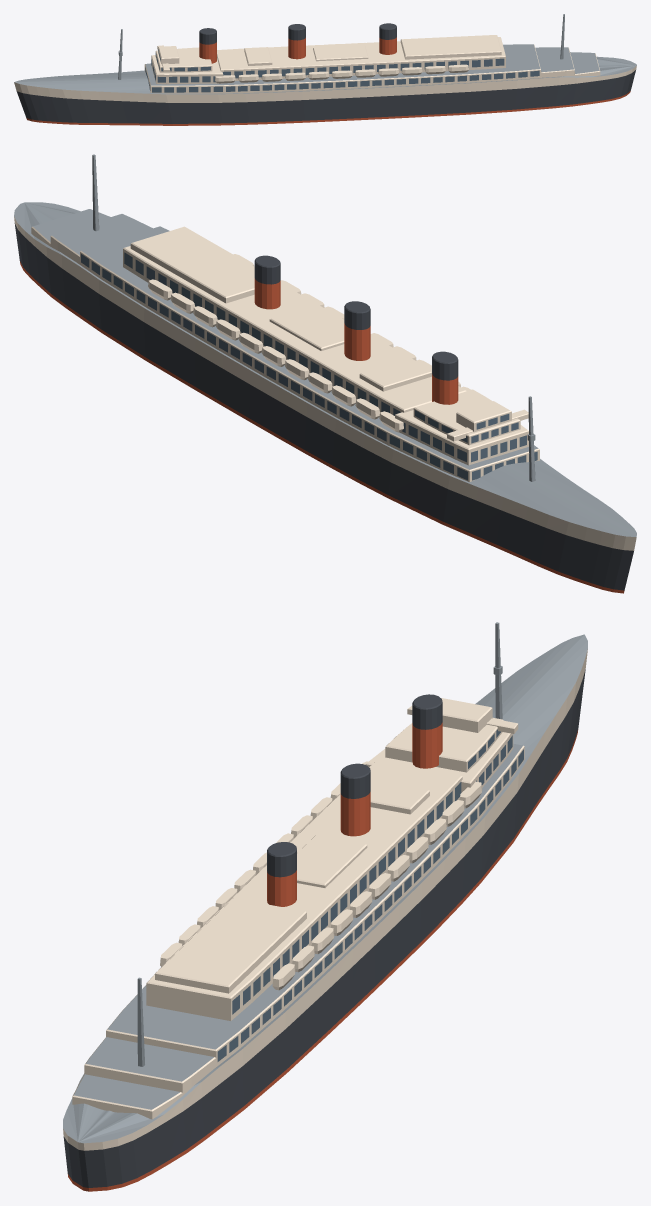
3 views of the same model, one above another, from view 1: azimuth 30°, elevation 25°; view 2: azimuth 150°, elevation 25°; view 3: azimuth 270°, elevation 25° (orthographic). The views are drawn at different scales.
Parts seen in each view (by area): view 1: rms-queen-mary; view 2: rms-queen-mary; view 3: rms-queen-mary.
Part boxes in pixels (box(x1,y1,x2,y2)): rms-queen-mary: box(14, 14, 636, 125); rms-queen-mary: box(14, 154, 636, 593); rms-queen-mary: box(63, 622, 587, 1191).
Bounding box in the file's own units: 284 × 47.02 × 130.
